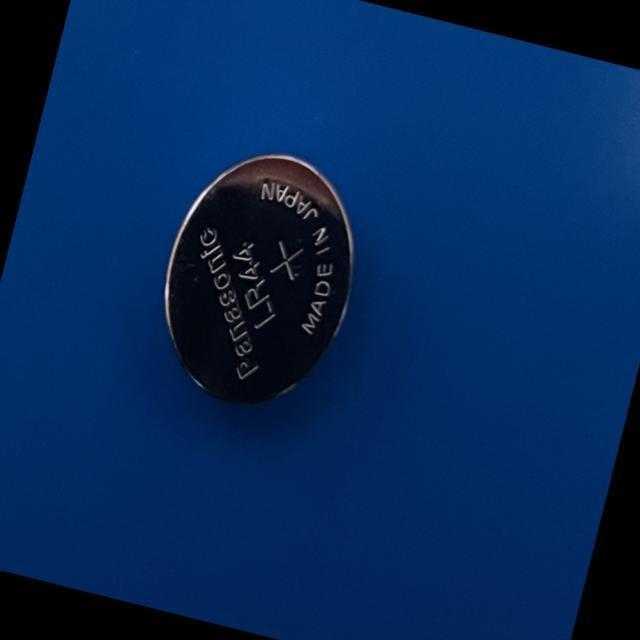COIN: (138, 135, 380, 431)
